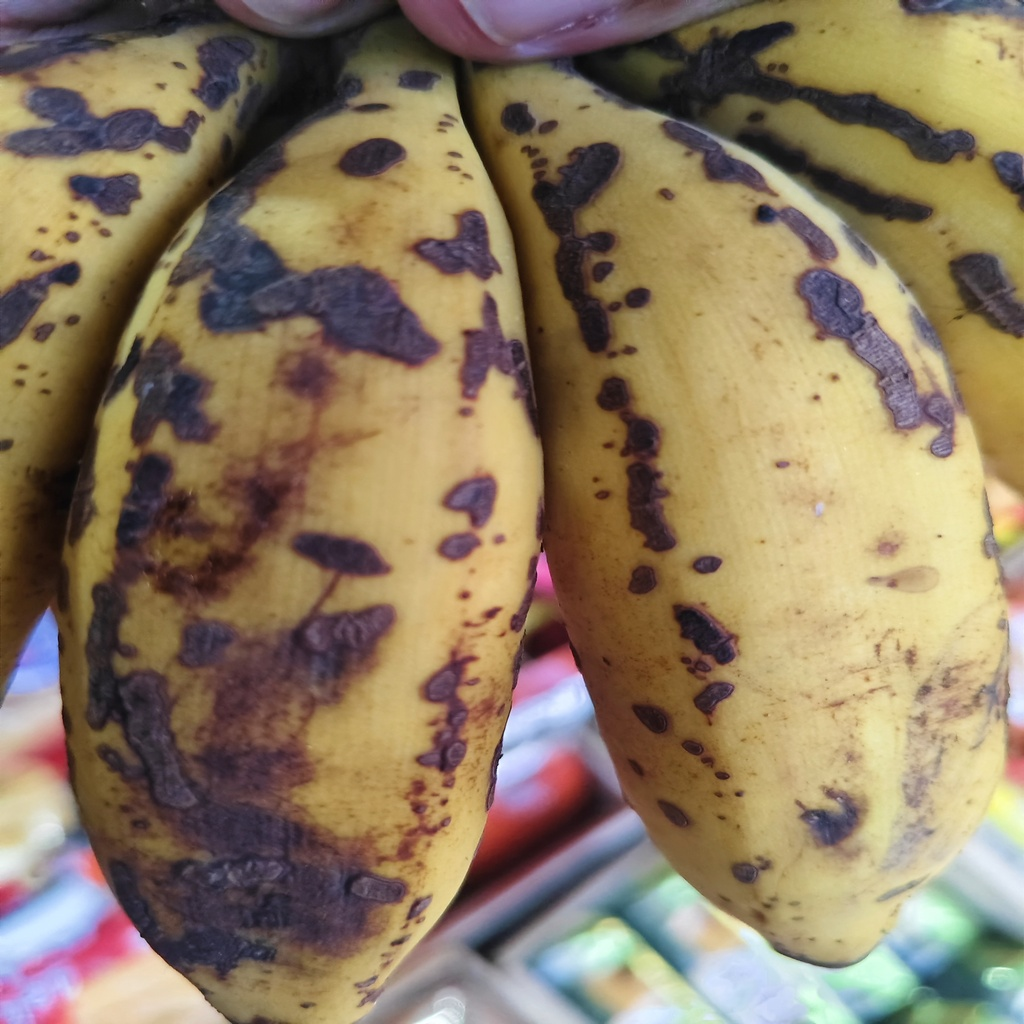unhealthy: (57, 79, 553, 1012), (471, 80, 1005, 944)
